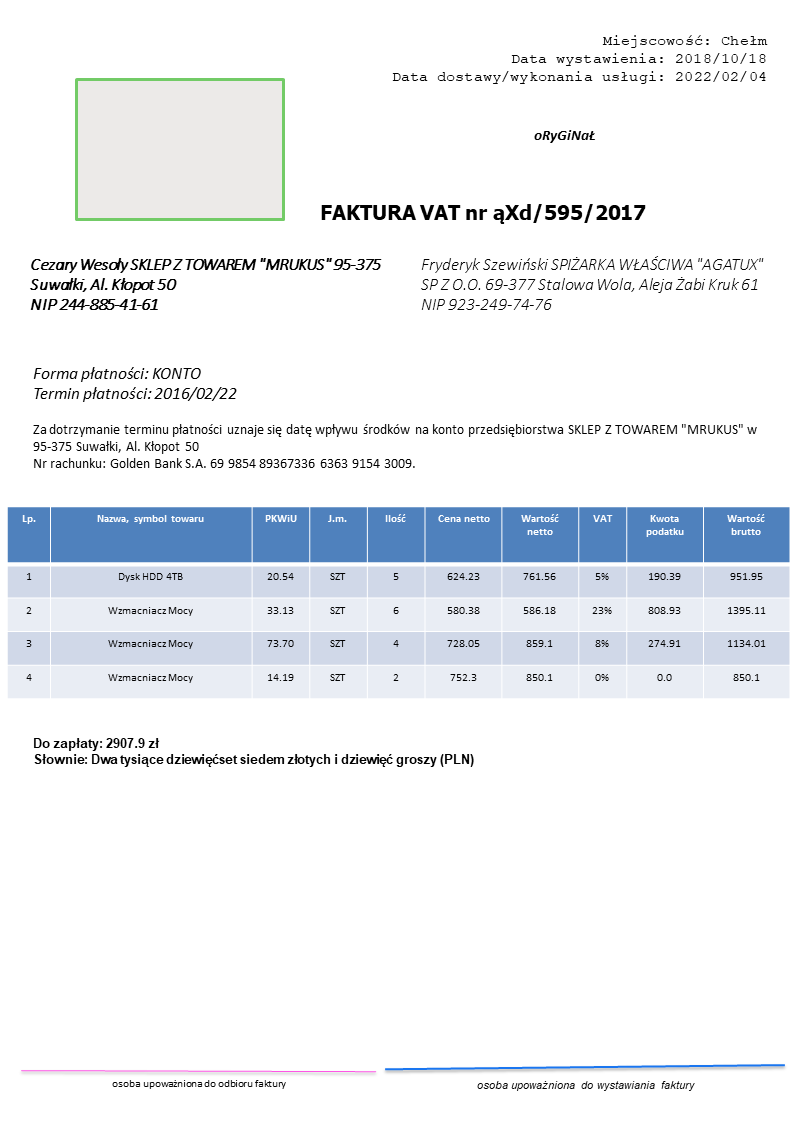Table: (5, 505, 790, 699)
TextBox: (29, 421, 764, 471), (26, 254, 386, 314), (417, 254, 765, 315), (389, 31, 769, 86), (30, 735, 476, 771), (318, 199, 647, 227), (30, 363, 238, 406), (474, 1075, 697, 1094), (108, 1076, 288, 1092), (530, 127, 597, 146)
